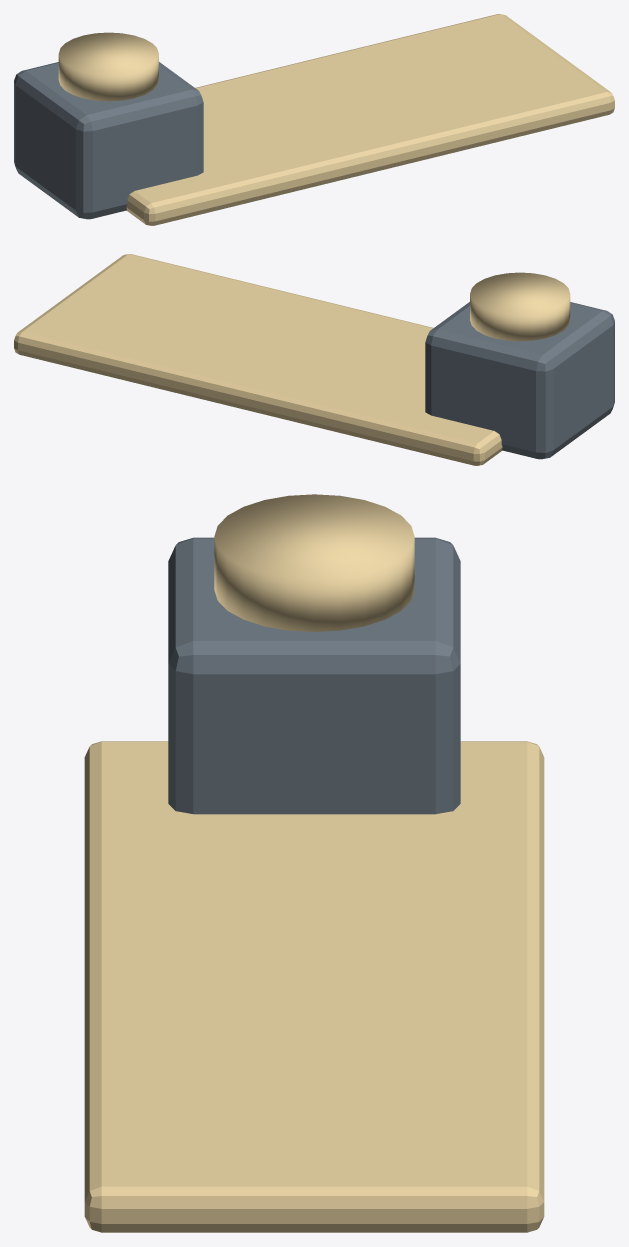
Rendered from inkwell.glb.
The picture shows the model from 3 angles, top to bottom: view 1: azimuth 30°, elevation 25°; view 2: azimuth 150°, elevation 25°; view 3: azimuth 270°, elevation 25°; orthographic projection. The views are drawn at different scales.
Parts seen in each view (by area): view 1: inkwell; view 2: inkwell; view 3: inkwell.
Boxes of the visible parts, x1,y1,x2,y2 form: inkwell: (14, 14, 614, 225); inkwell: (14, 254, 614, 465); inkwell: (84, 494, 544, 1232).
Size of the model in its own units: 0.285 by 0.069 by 0.11.
